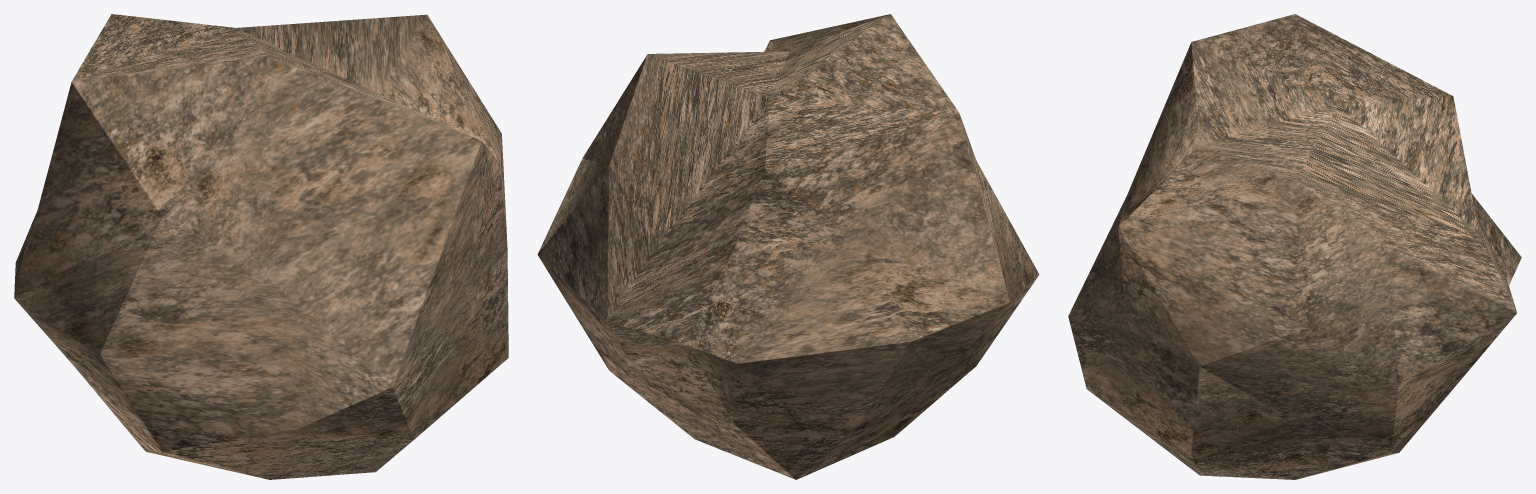
File: rock.fbx
3 renders of one model, left to right at view 1: azimuth 30°, elevation 25°; view 2: azimuth 150°, elevation 25°; view 3: azimuth 270°, elevation 25°, orthographic. The views are drawn at different scales.
Visible parts, largest first — view 1: pPlatonic1; view 2: pPlatonic1; view 3: pPlatonic1.
Part boxes in pixels (x1,y1,x2,y2): pPlatonic1: (14,14,508,479); pPlatonic1: (537,14,1039,479); pPlatonic1: (1068,14,1521,479).
Bounding box in the file's own units: 2.29 × 2 × 2.12.
1 material, 1 textured.
